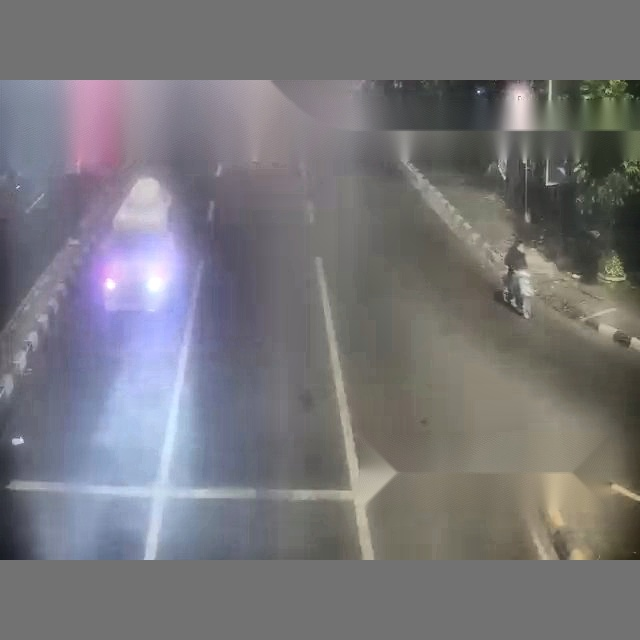Motor: (503, 268, 535, 317)
